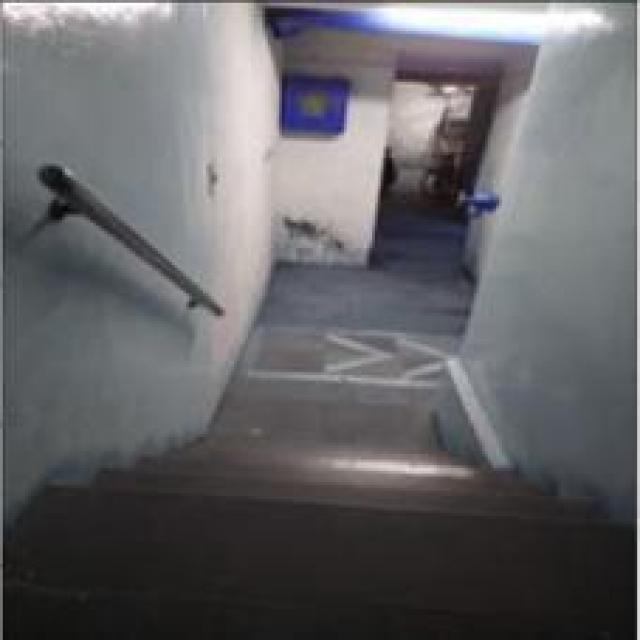downstair: (139, 396, 497, 568)
